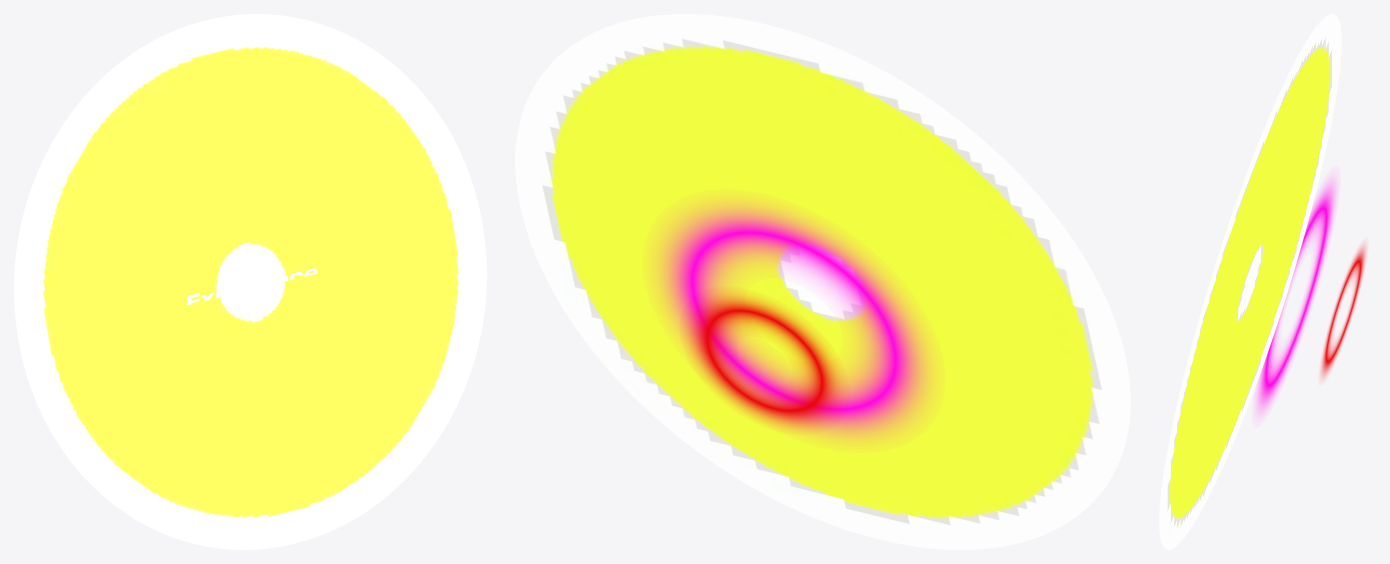
Rendered from discover-m.glb.
3 views of the same model, side by side, from view 1: azimuth 30°, elevation 25°; view 2: azimuth 150°, elevation 25°; view 3: azimuth 270°, elevation 25° (orthographic). The views are drawn at different scales.
Parts seen in each view (by area): view 1: BezierCircle; view 2: BezierCircle; view 3: BezierCircle.
Boxes of the visible parts, left/top/right/bottom form: BezierCircle: left=14, top=14, right=486, bottom=549; BezierCircle: left=515, top=14, right=1130, bottom=549; BezierCircle: left=1159, top=14, right=1365, bottom=549.
Size of the model in its own units: 3.53 by 3.34 by 1.36.
4 materials, 3 textured.
